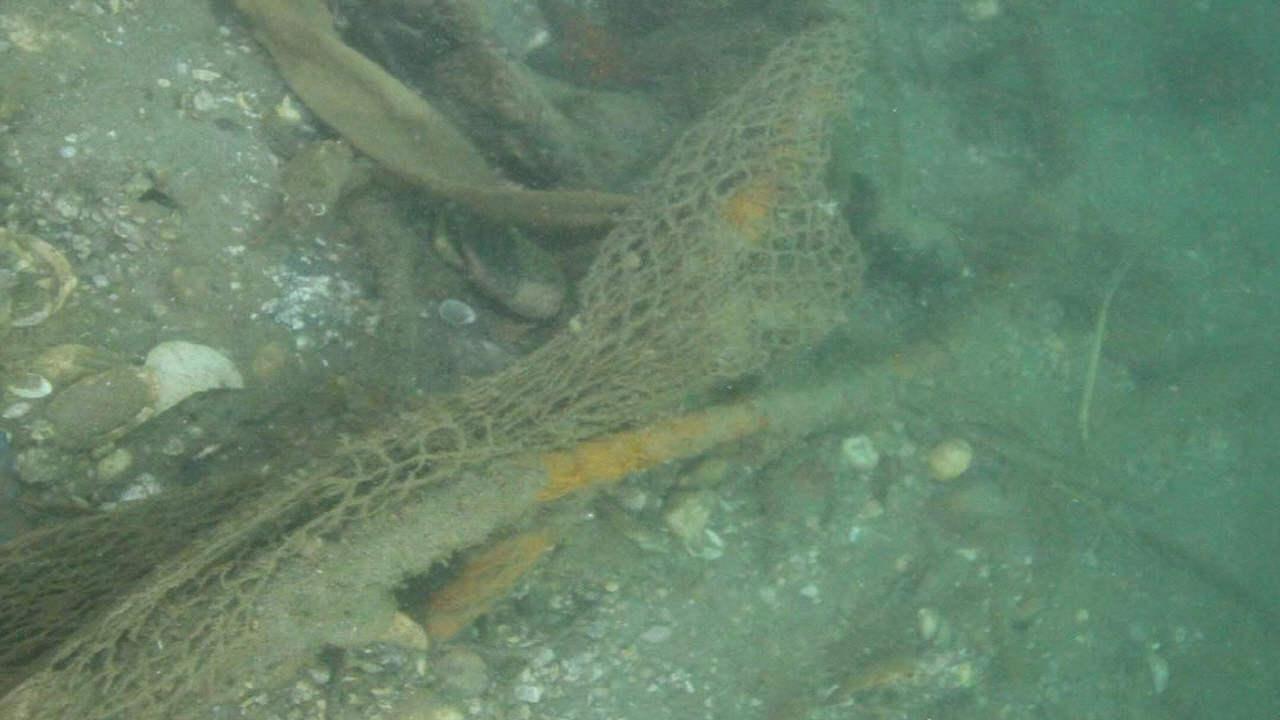fish net: (0, 19, 864, 720)
